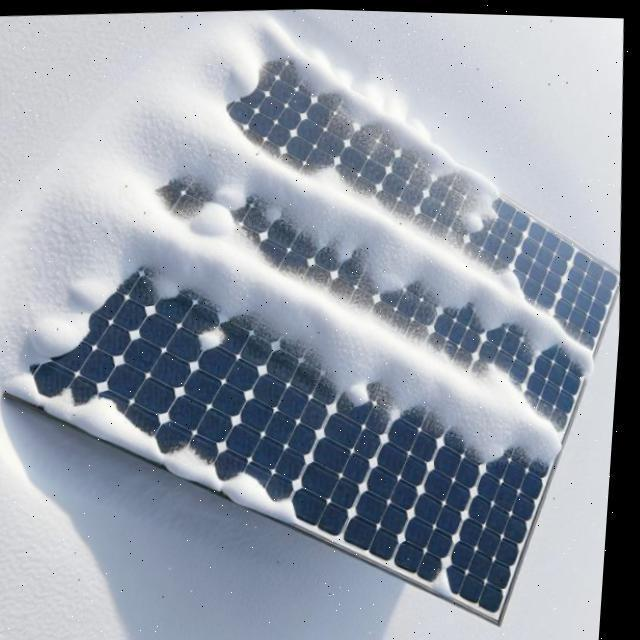Anomaly Solar Panel: (11, 9, 624, 617)
Snow: (7, 9, 624, 640)
